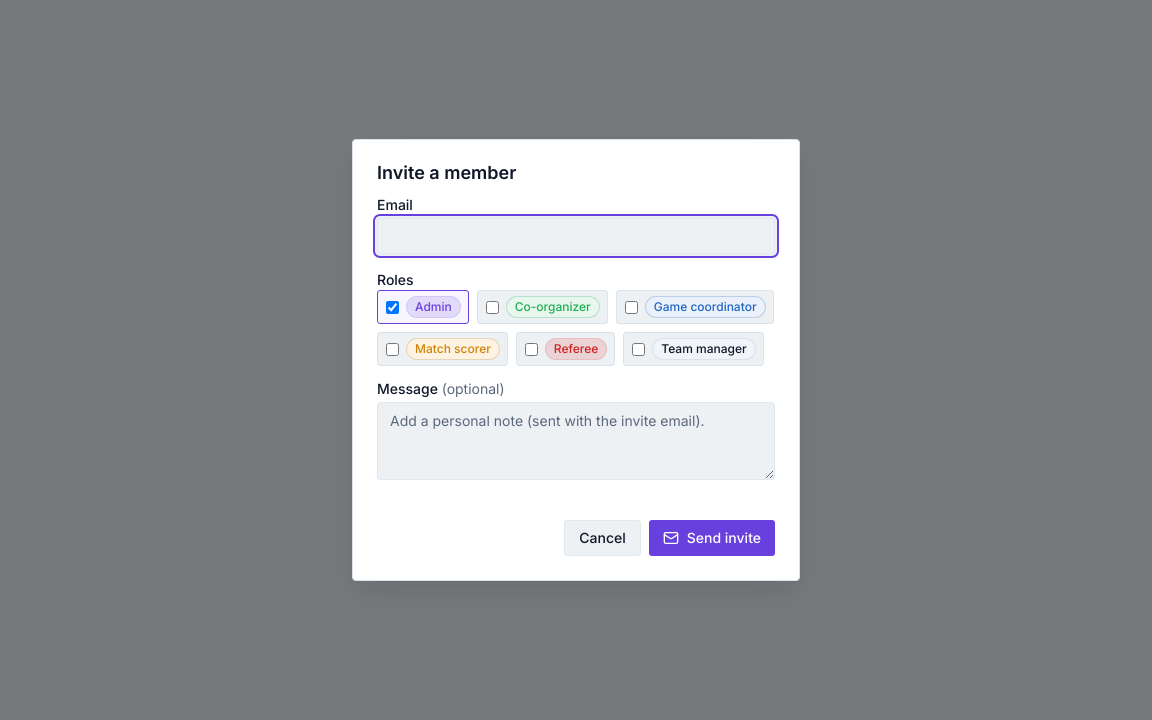
Scenario: InviteCreateModal › submits successfully and reveals the token + share link
Type "newbie@example.com" into the field labelled "Email".
click(576, 236); type("newbie@example.com")  # box [377,218,775,254]
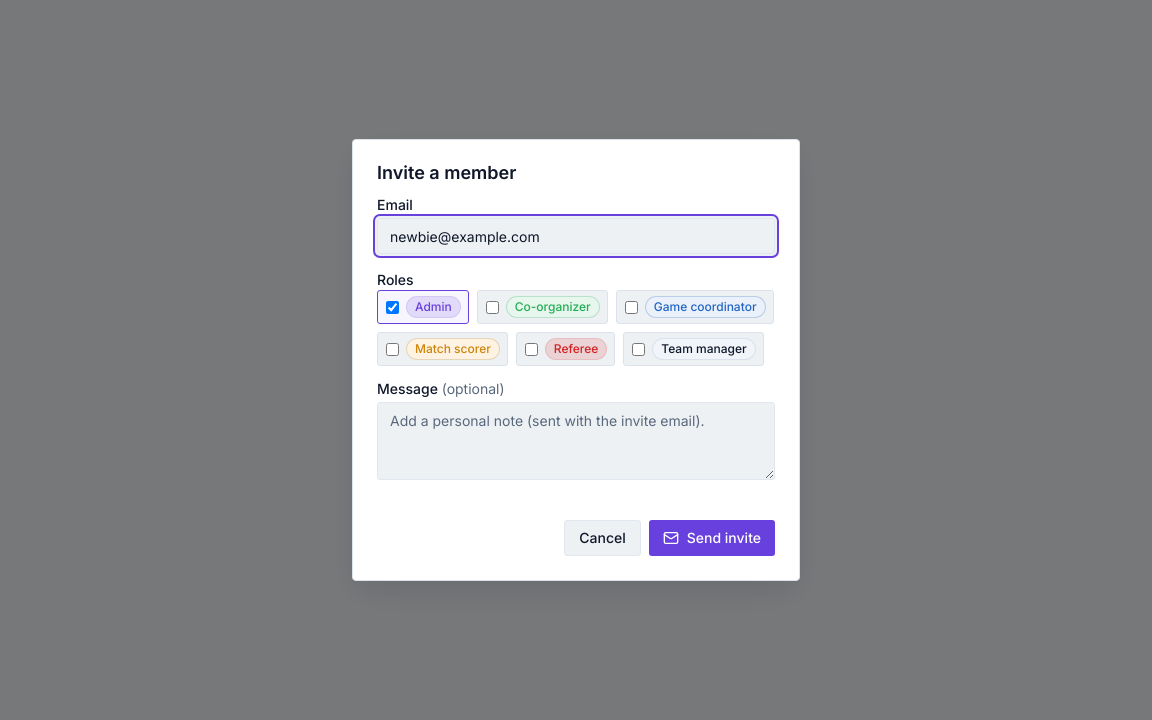
Click the button with test id "invite-submit".
click(712, 538)  # box [649,520,775,556]
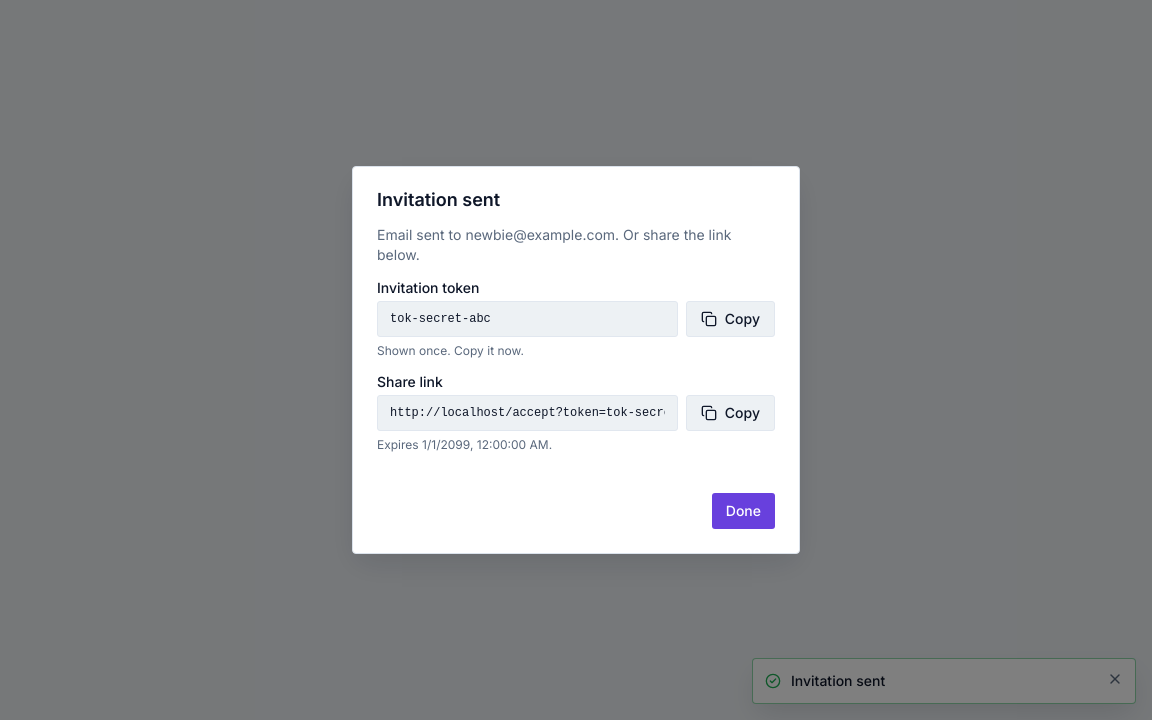
Check: the field with test id "invite-token" holds "tok-secret-abc", box [377,301,678,337]
